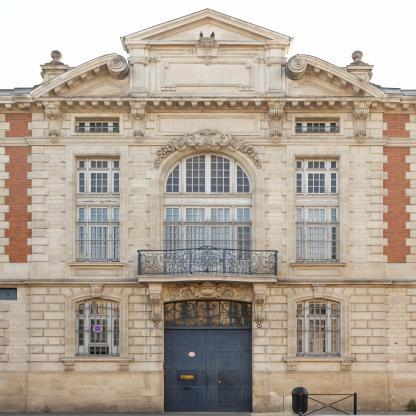Balcony: (138, 249, 277, 276)
Building Outline: (0, 8, 416, 413)
Cornice: (125, 9, 289, 40), (29, 54, 127, 97), (287, 54, 385, 97), (89, 283, 105, 298), (311, 284, 327, 298)
Deco: (153, 128, 263, 170), (165, 281, 251, 301), (194, 31, 220, 66), (352, 101, 372, 143), (44, 101, 62, 143), (129, 101, 147, 143), (268, 101, 286, 143), (253, 282, 269, 325), (148, 282, 163, 325)
Door: (164, 329, 252, 412), (164, 223, 252, 275)
Facade: (0, 9, 416, 413)
Floor Slab: (1, 278, 416, 287)
Ground Floor: (0, 287, 416, 413)
Molding: (35, 98, 381, 110), (38, 63, 129, 97), (286, 63, 375, 96), (269, 278, 416, 287), (1, 278, 148, 287), (380, 95, 416, 110), (0, 96, 34, 111)
Pillar: (266, 44, 285, 98), (130, 44, 148, 98)
Sill: (282, 357, 357, 371), (59, 357, 134, 371), (68, 262, 125, 266), (290, 262, 347, 266)
Top Floor: (0, 110, 416, 278)
Window: (163, 149, 252, 275), (296, 156, 341, 262), (75, 155, 119, 262), (77, 158, 119, 262), (296, 159, 338, 262), (164, 152, 252, 195), (163, 298, 253, 329), (296, 298, 341, 357), (74, 298, 119, 357), (164, 205, 252, 223), (295, 117, 341, 133), (74, 117, 120, 132), (295, 121, 338, 133), (77, 121, 119, 132)
